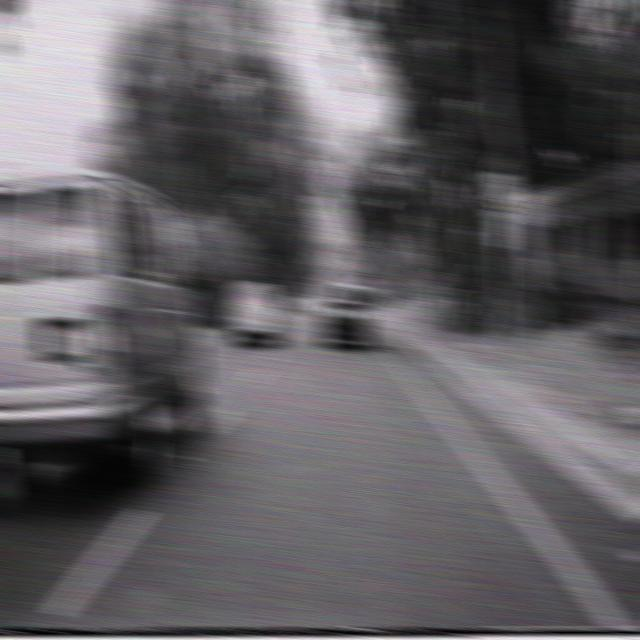speedLimit45: (487, 171, 516, 220)
